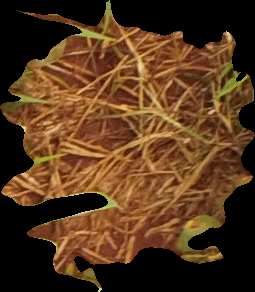soil: (2, 6, 251, 289)
